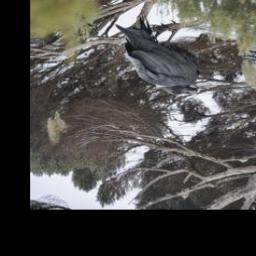Crow: (116, 14, 201, 97)
